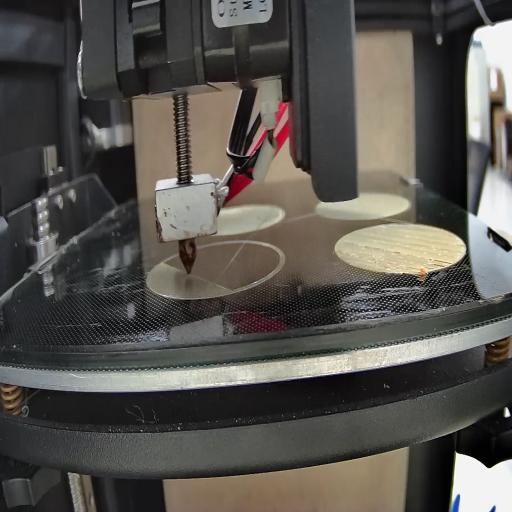under_extrusion: (346, 238, 402, 256), (422, 256, 452, 272), (453, 238, 467, 251)
